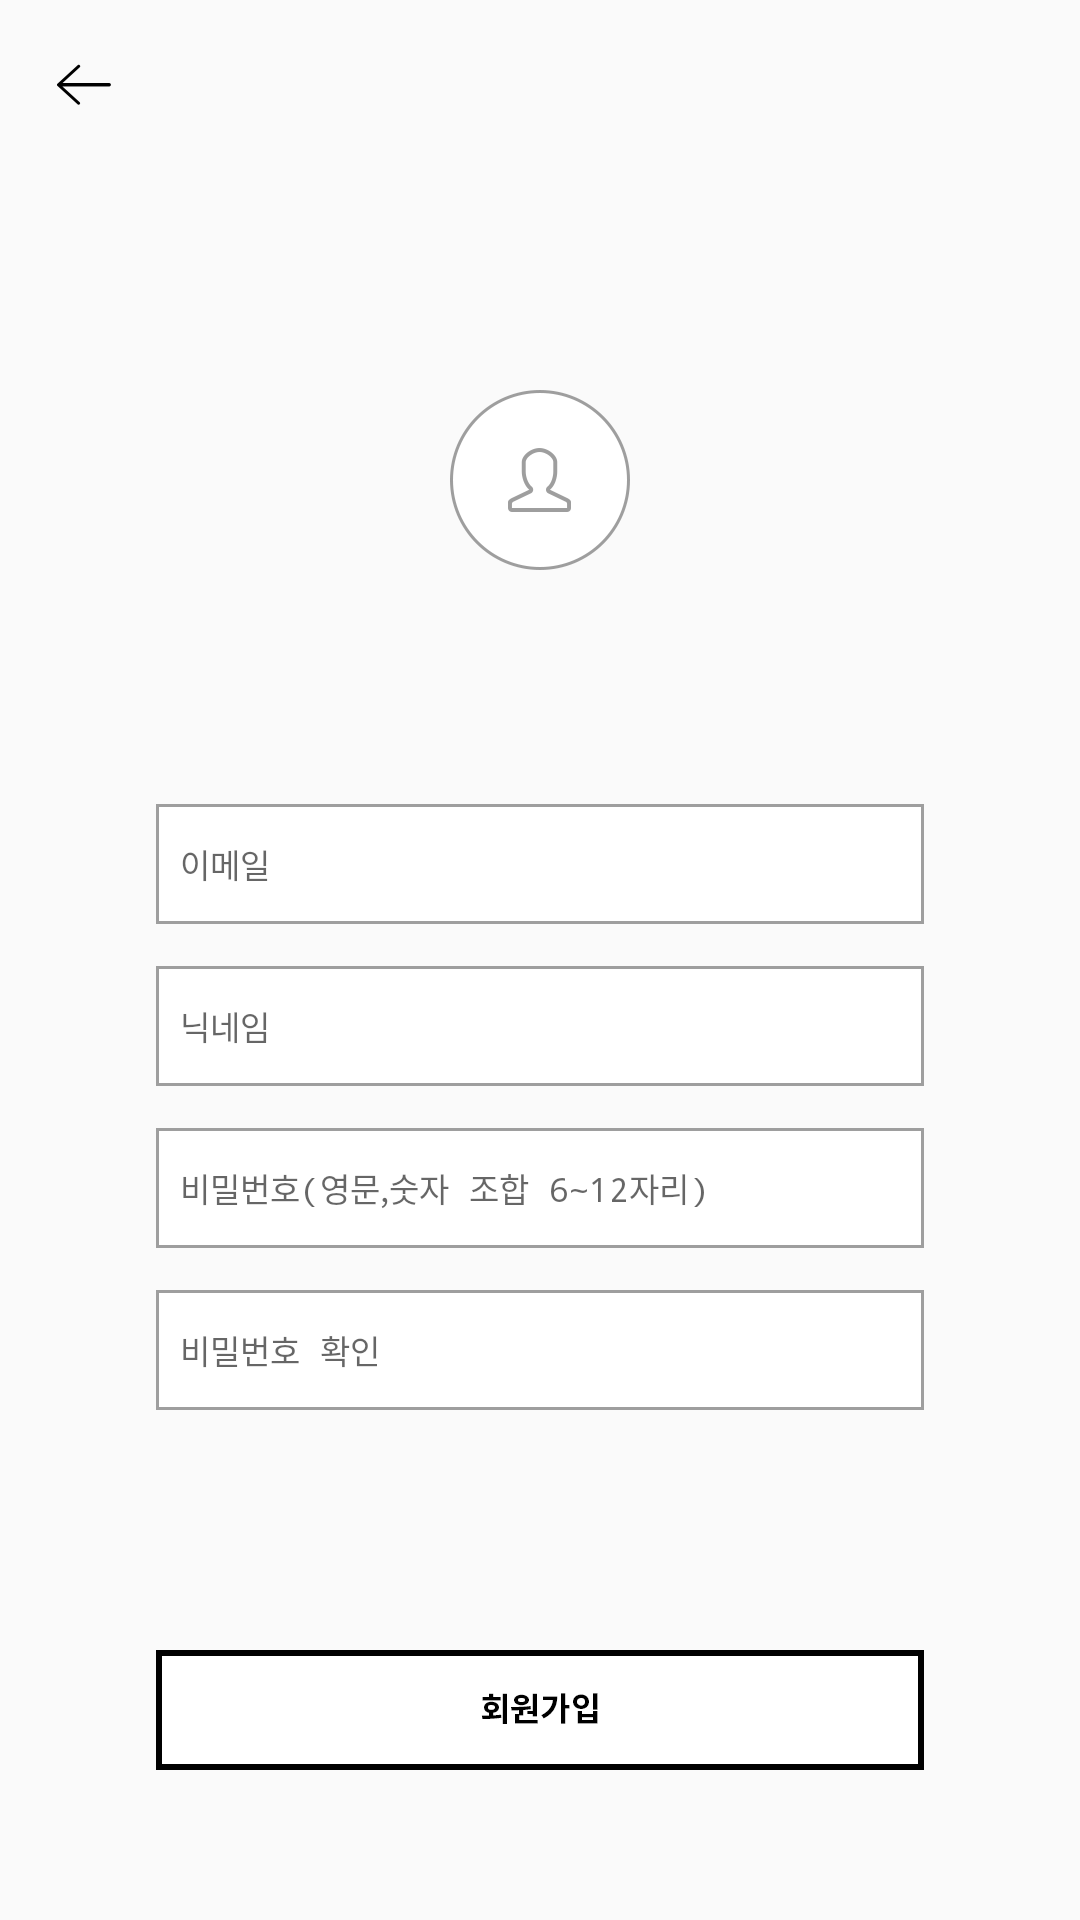

Icon click points for this 1080px×1920px phone screenshot, format (x,y):
back: (84,84)
profile: (540,480)
